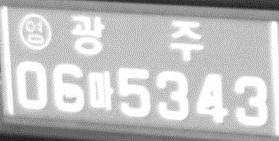0: (15, 59, 48, 111)
3: (232, 74, 269, 127), (155, 70, 191, 121)
4: (195, 74, 227, 125)
5: (115, 67, 152, 118)
6: (50, 62, 85, 113)
광주_D: (69, 14, 203, 61)
마: (86, 70, 114, 111)
영: (18, 14, 54, 51)
